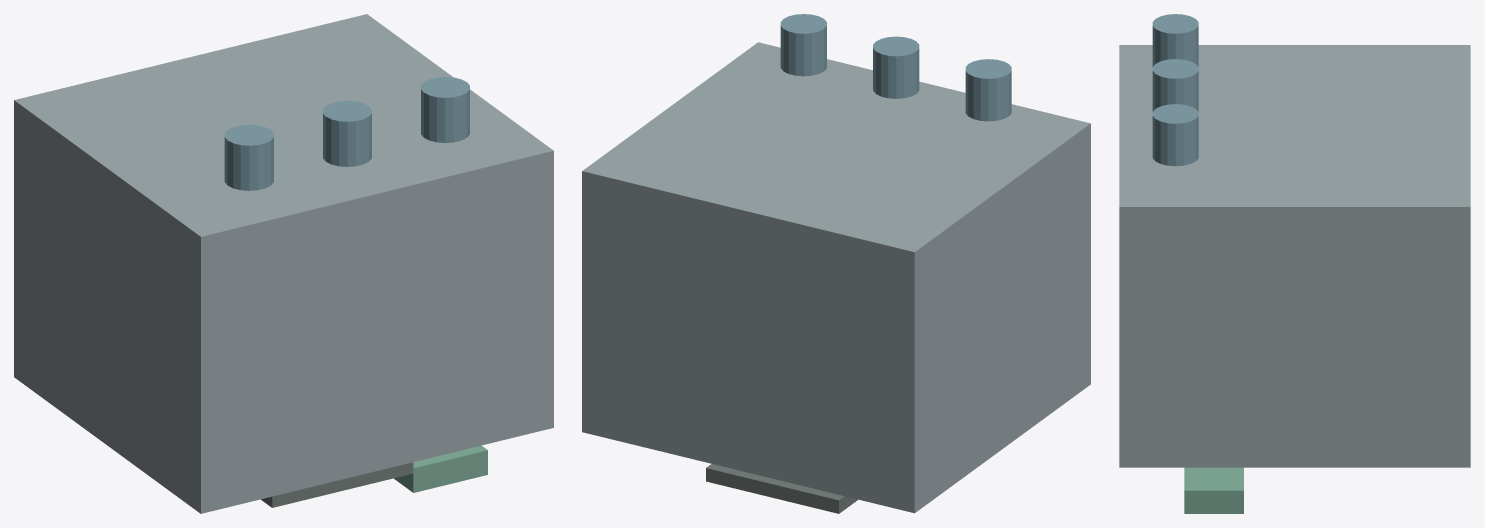
Rendered from cold-storage-high.glb.
3 renders of one model, left to right at view 1: azimuth 30°, elevation 25°; view 2: azimuth 150°, elevation 25°; view 3: azimuth 270°, elevation 25°, orthographic. The views are drawn at different scales.
Visible parts, largest first — view 1: chamber, fan-0, fan-1, fan-2, controller, door; view 2: chamber, door, fan-0, fan-1, fan-2; view 3: chamber, controller, fan-2, fan-1, fan-0.
Boxes of the visible parts, x1,y1,x2,y2 form: chamber: (14,14,553,513); fan-0: (224,124,273,190); fan-1: (323,100,371,166); fan-2: (421,77,469,142); controller: (394,445,487,492); door: (261,462,413,507); chamber: (582,42,1090,513); door: (706,464,857,513); fan-0: (965,59,1011,121); fan-1: (873,36,919,98); fan-2: (780,14,826,76); chamber: (1119,45,1470,467); controller: (1184,467,1243,513); fan-2: (1152,104,1198,166); fan-1: (1152,59,1198,111); fan-0: (1152,14,1198,66).
Bounding box in the file's own units: 1.8 × 1.96 × 1.65.
